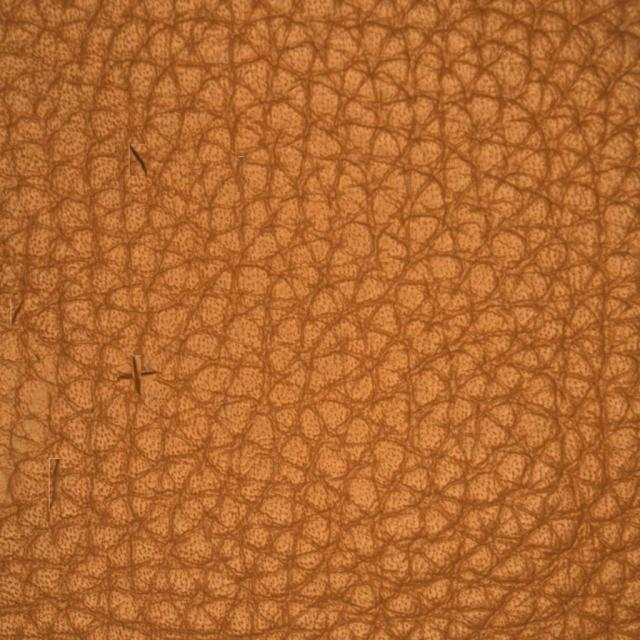Scratch: (77, 65, 219, 231), (84, 296, 185, 446), (13, 410, 104, 552)
